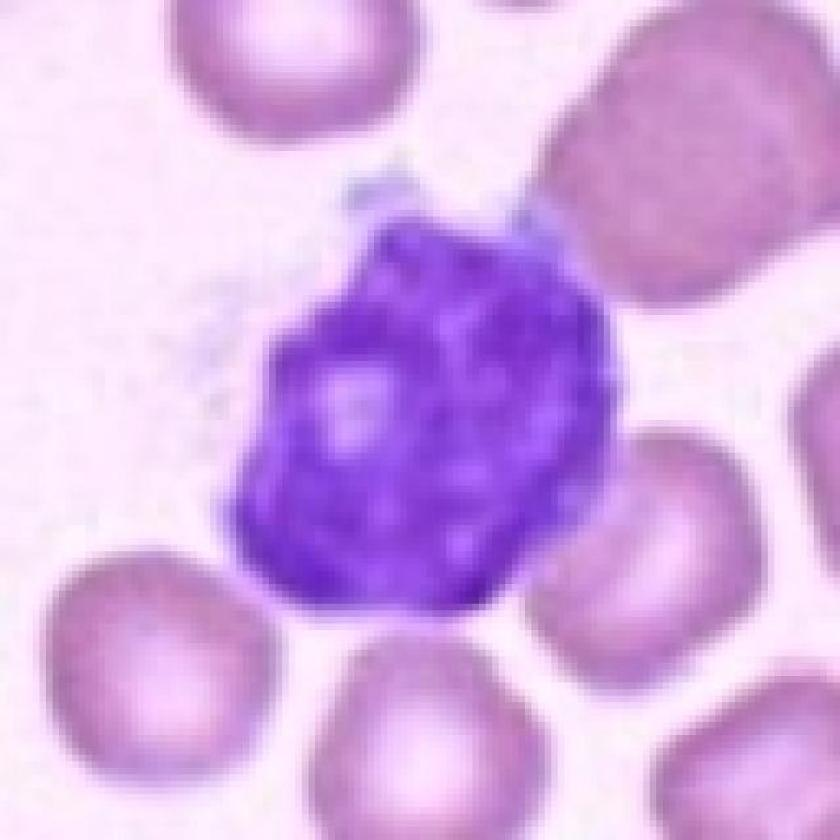lymphocyte: (219, 159, 634, 646)
